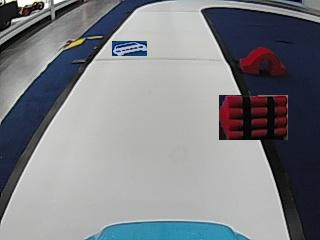bridge: (239, 45, 284, 75)
